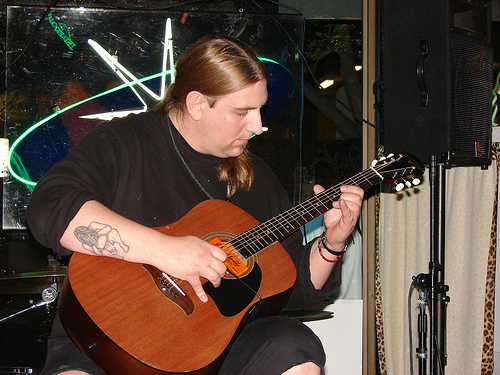guitar: (55, 146, 425, 375)
